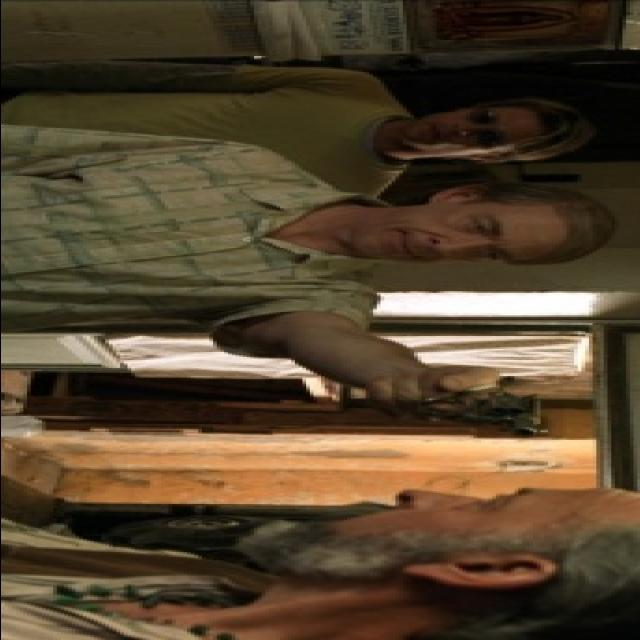weapons: (371, 367, 579, 456)
